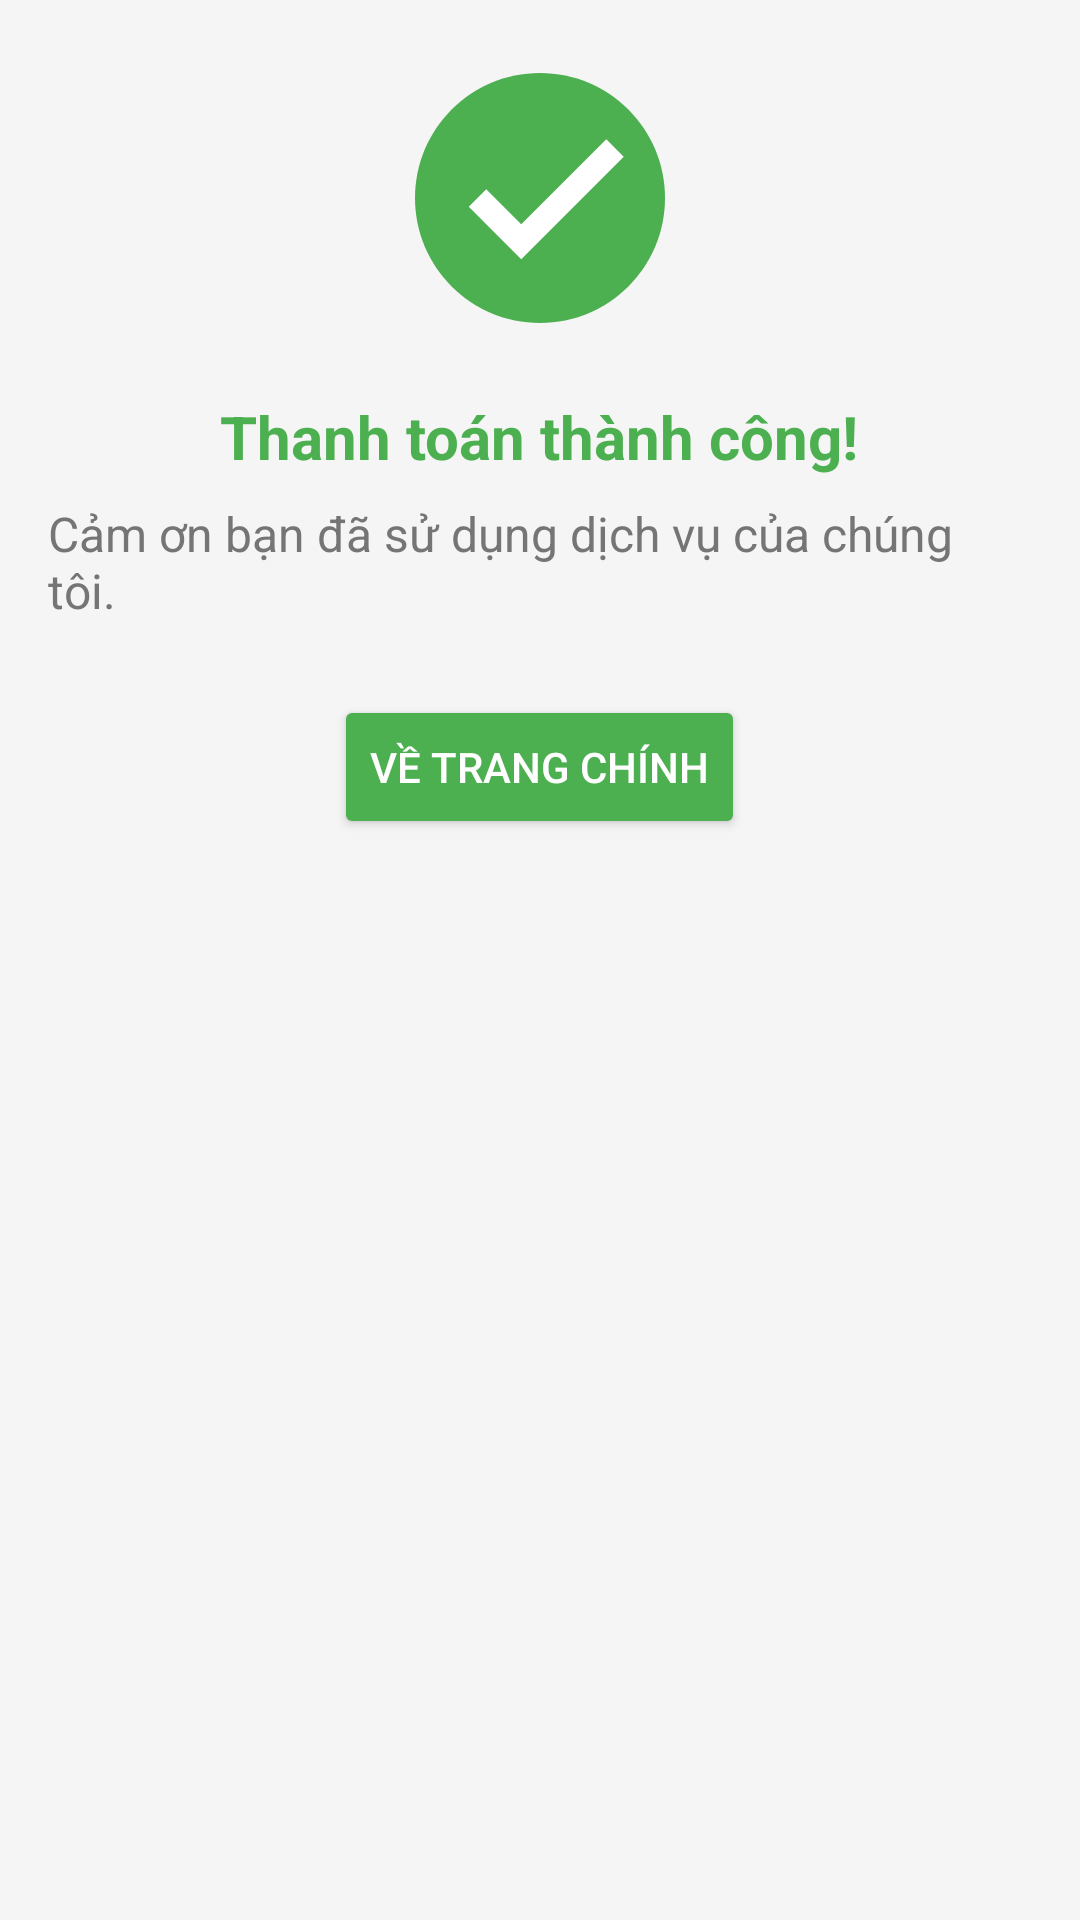

Icon click points for this 1080 × 1920 phone screenshot, format [x,y]:
Success Icon: [540,198]
